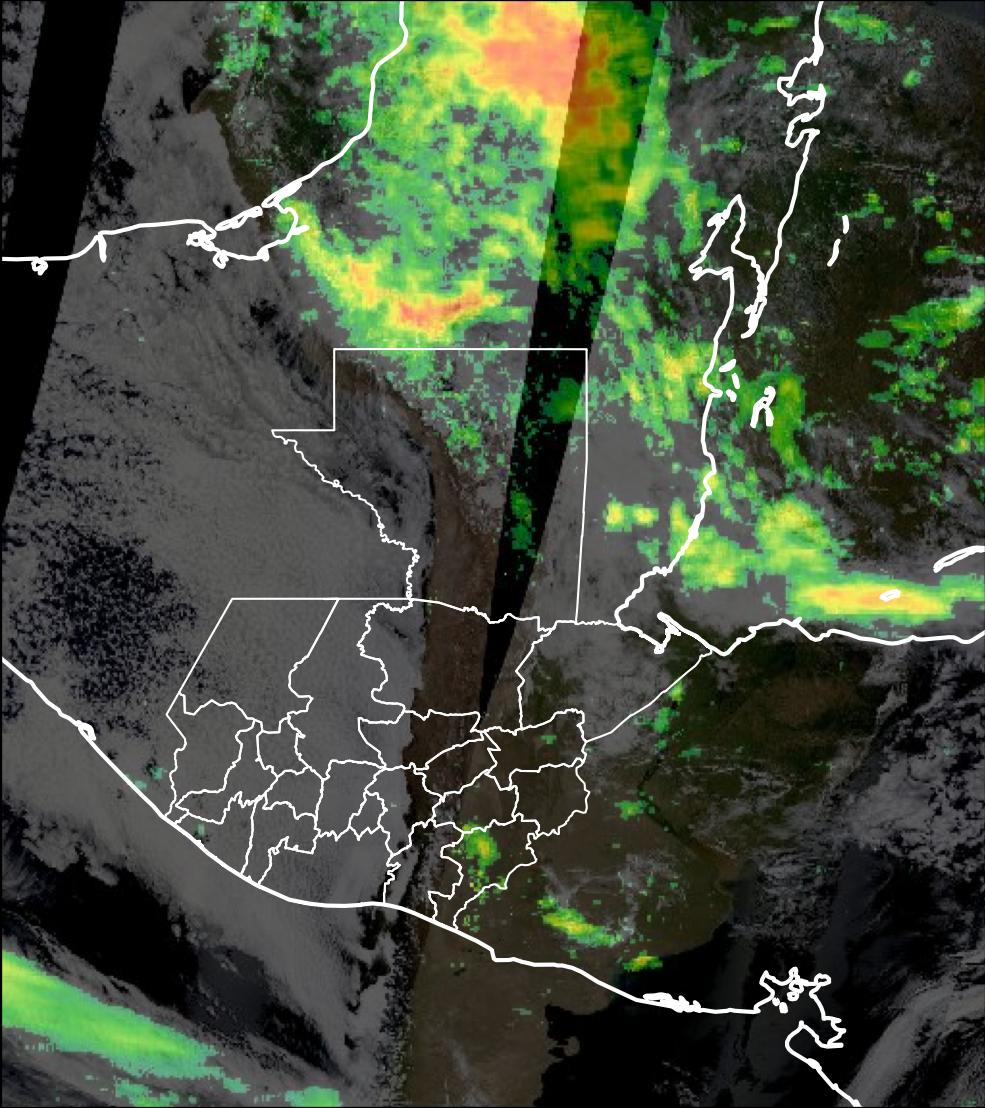precipitacion: (435, 6, 663, 184), (385, 289, 506, 344)
